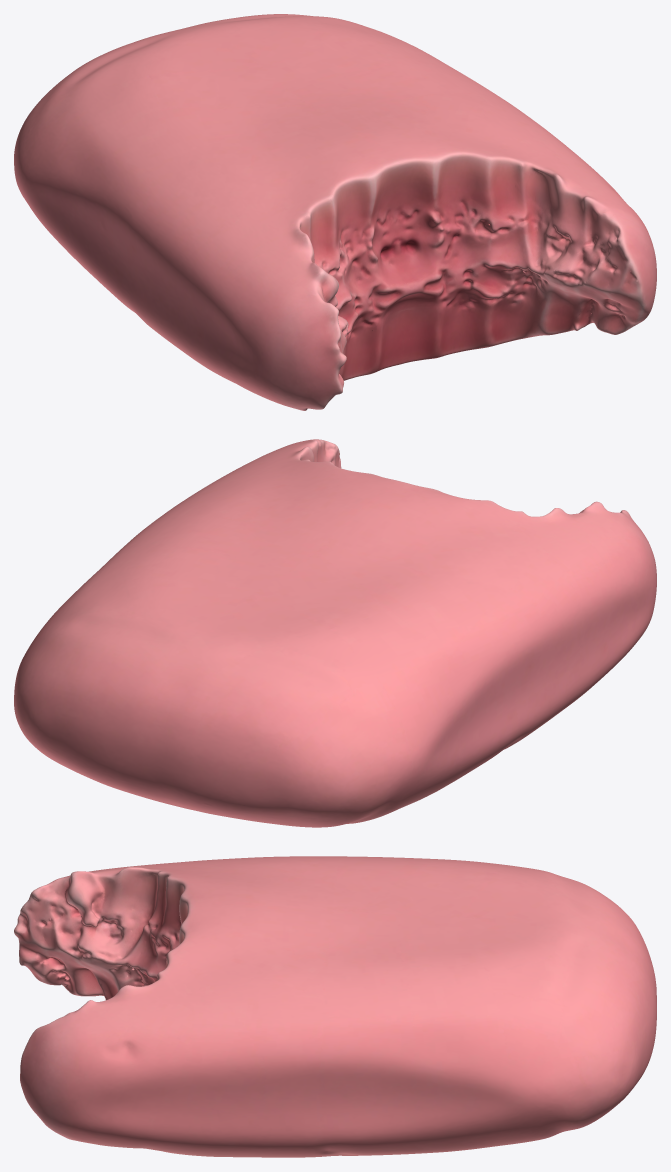
3 views of the same model, one above another, from view 1: azimuth 30°, elevation 25°; view 2: azimuth 150°, elevation 25°; view 3: azimuth 270°, elevation 25° (orthographic). The views are drawn at different scales.
Parts seen in each view (by area): view 1: mesh_0; view 2: mesh_0; view 3: mesh_0.
Part boxes in pixels (left/top/right/bottom): mesh_0: left=14, top=14, right=656, bottom=410; mesh_0: left=14, top=439, right=656, bottom=827; mesh_0: left=14, top=856, right=656, bottom=1157.
Bounding box in the file's own units: 1.33 × 0.6413 × 1.9.
Materials: 1 (1 with a texture image).
